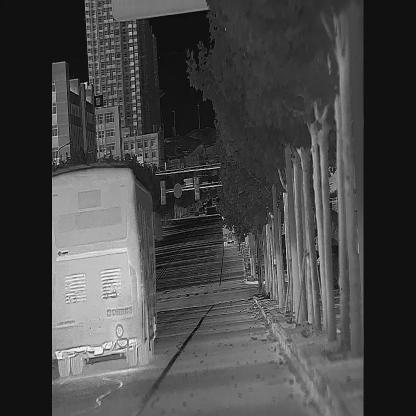bus: (53, 166, 159, 369), (211, 197, 216, 207)
car: (199, 206, 205, 216), (190, 207, 194, 216)
truck: (222, 215, 239, 246)
